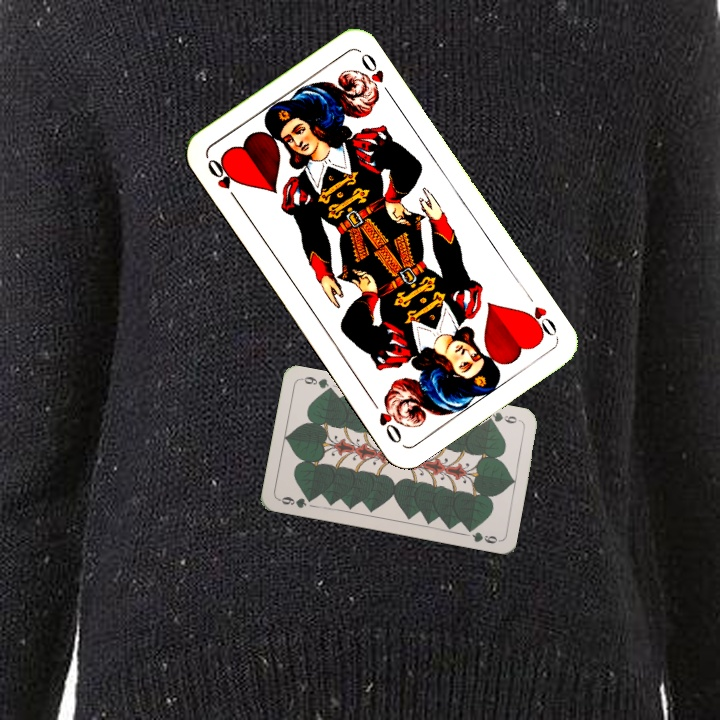G9: (275, 492, 316, 511), (482, 408, 523, 426)
HO: (203, 154, 242, 206), (519, 302, 560, 342)
